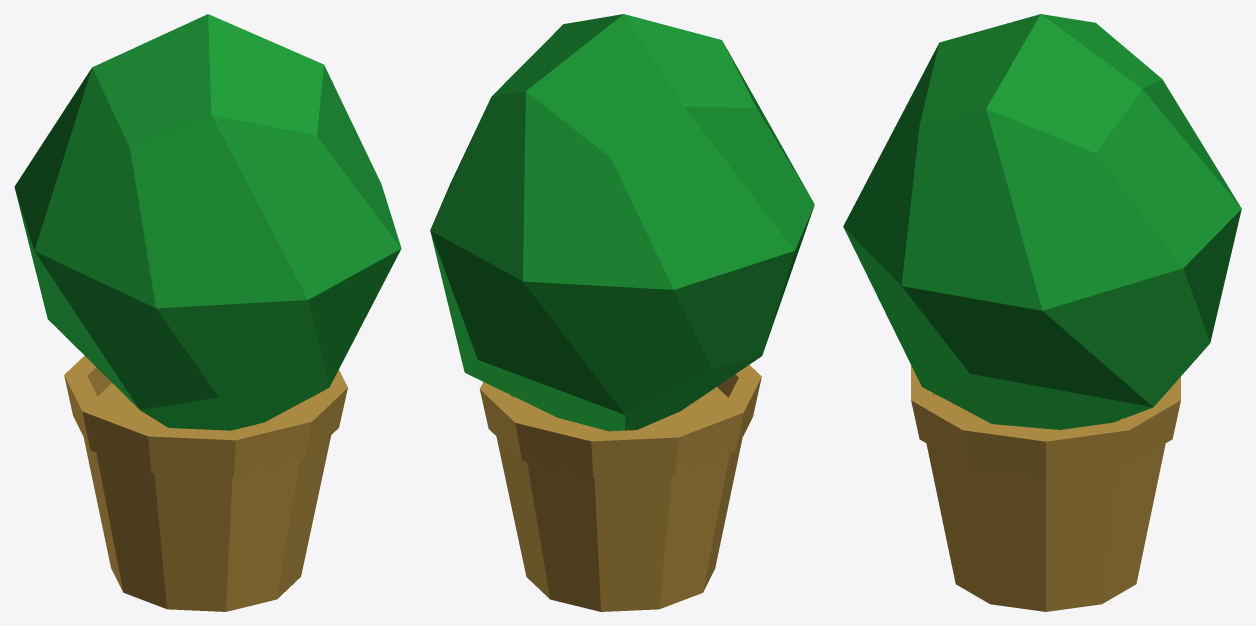
The model's file is Plant002.FBX.
3 views of the same model, side by side, from view 1: azimuth 30°, elevation 25°; view 2: azimuth 150°, elevation 25°; view 3: azimuth 270°, elevation 25° (orthographic).
Visible parts, largest first — view 1: Plant002; view 2: Plant002; view 3: Plant002.
Boxes of the visible parts, bbox=[...] form: Plant002: bbox=[14, 14, 401, 611]; Plant002: bbox=[430, 14, 814, 611]; Plant002: bbox=[843, 14, 1241, 611].
Bounding box in the file's own units: 27.81 × 42.91 × 27.81.
